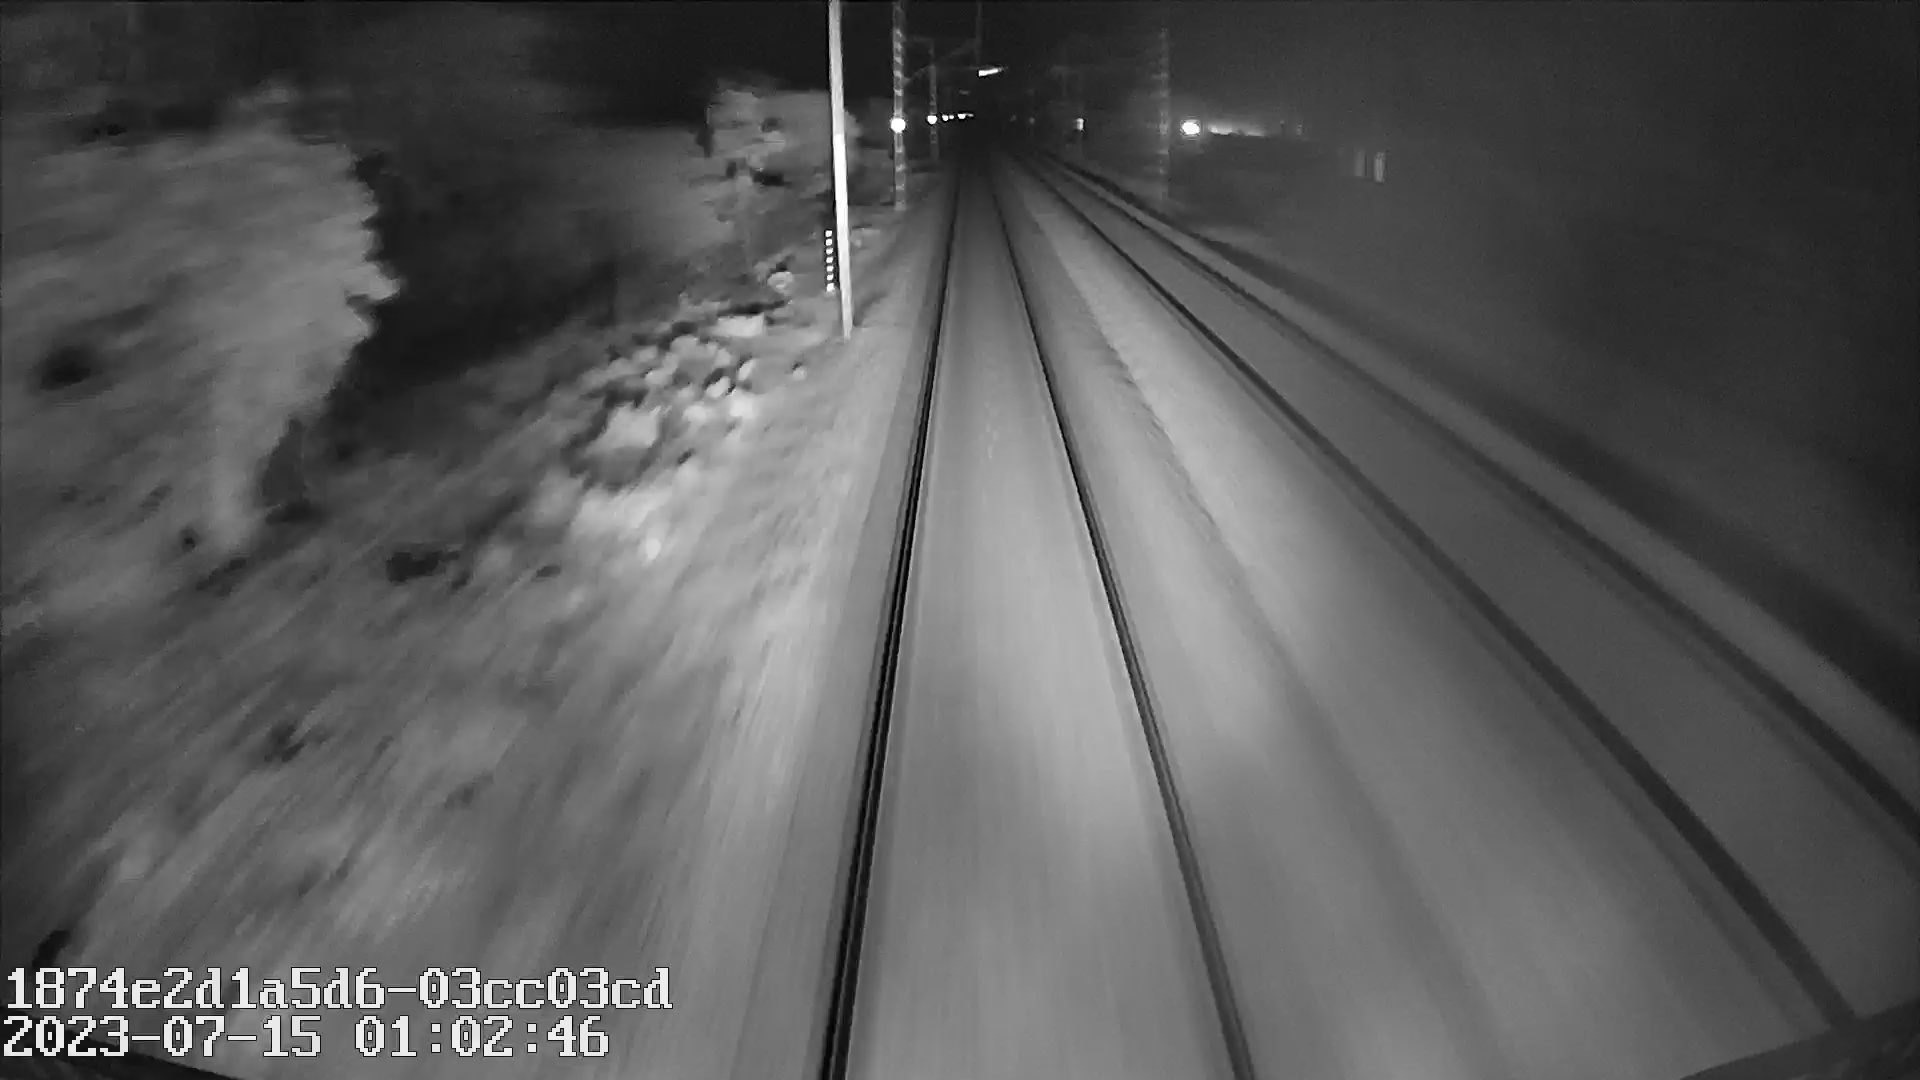track1: (840, 181, 1238, 1051)
track2: (1055, 186, 1903, 988)
